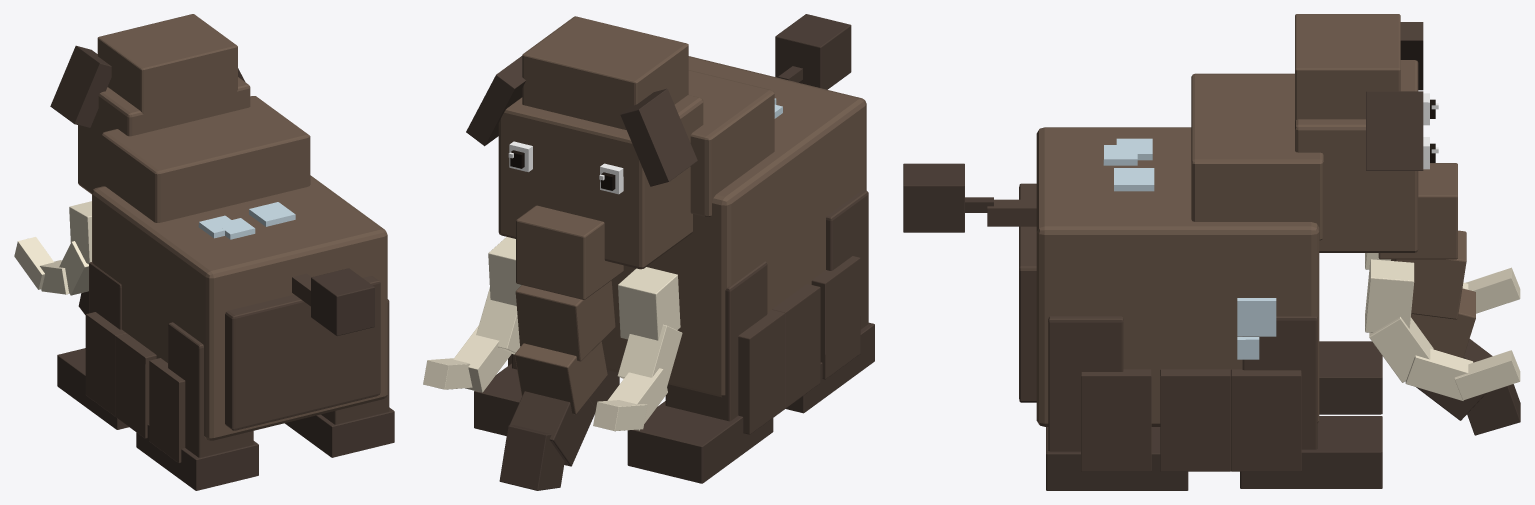
Rendered from mammoth.glb.
3 renders of one model, left to right at view 1: azimuth 30°, elevation 25°; view 2: azimuth 150°, elevation 25°; view 3: azimuth 270°, elevation 25°, orthographic. The views are drawn at different scales.
Visible parts, largest first — view 1: body, head, leg.BR, leg.BL, tail, leg.FR, ear.R; view 2: head, body, leg.FR, leg.BR, tail, ear.R, leg.FL, ear.L; view 3: body, head, leg.FL, leg.BL, tail, leg.FR, ear.L, ear.R.
Part boxes in pixels (x1,y1,x2,y2): body: (85,96,387,463); head: (14,14,250,314); leg.BR: (136,322,258,490); leg.BL: (285,299,394,457); tail: (292,268,374,335); leg.FR: (57,262,128,429); ear.R: (50,45,111,128); head: (423,16,703,490); body: (508,56,866,434); leg.FR: (627,261,773,483); leg.BR: (786,190,874,413); tail: (775,14,851,89); ear.R: (620,88,697,186); leg.FL: (474,354,619,435); ear.L: (466,56,525,146); body: (1019,73,1323,471); head: (1295,14,1520,435); leg.FL: (1240,316,1382,488); leg.BL: (1046,316,1188,490); tail: (903,163,1036,232); leg.FR: (1319,341,1382,414); ear.L: (1366,91,1423,170); ear.R: (1400,22,1423,90).
Size of the model in its own units: 0.6417 by 1 by 1.43.
